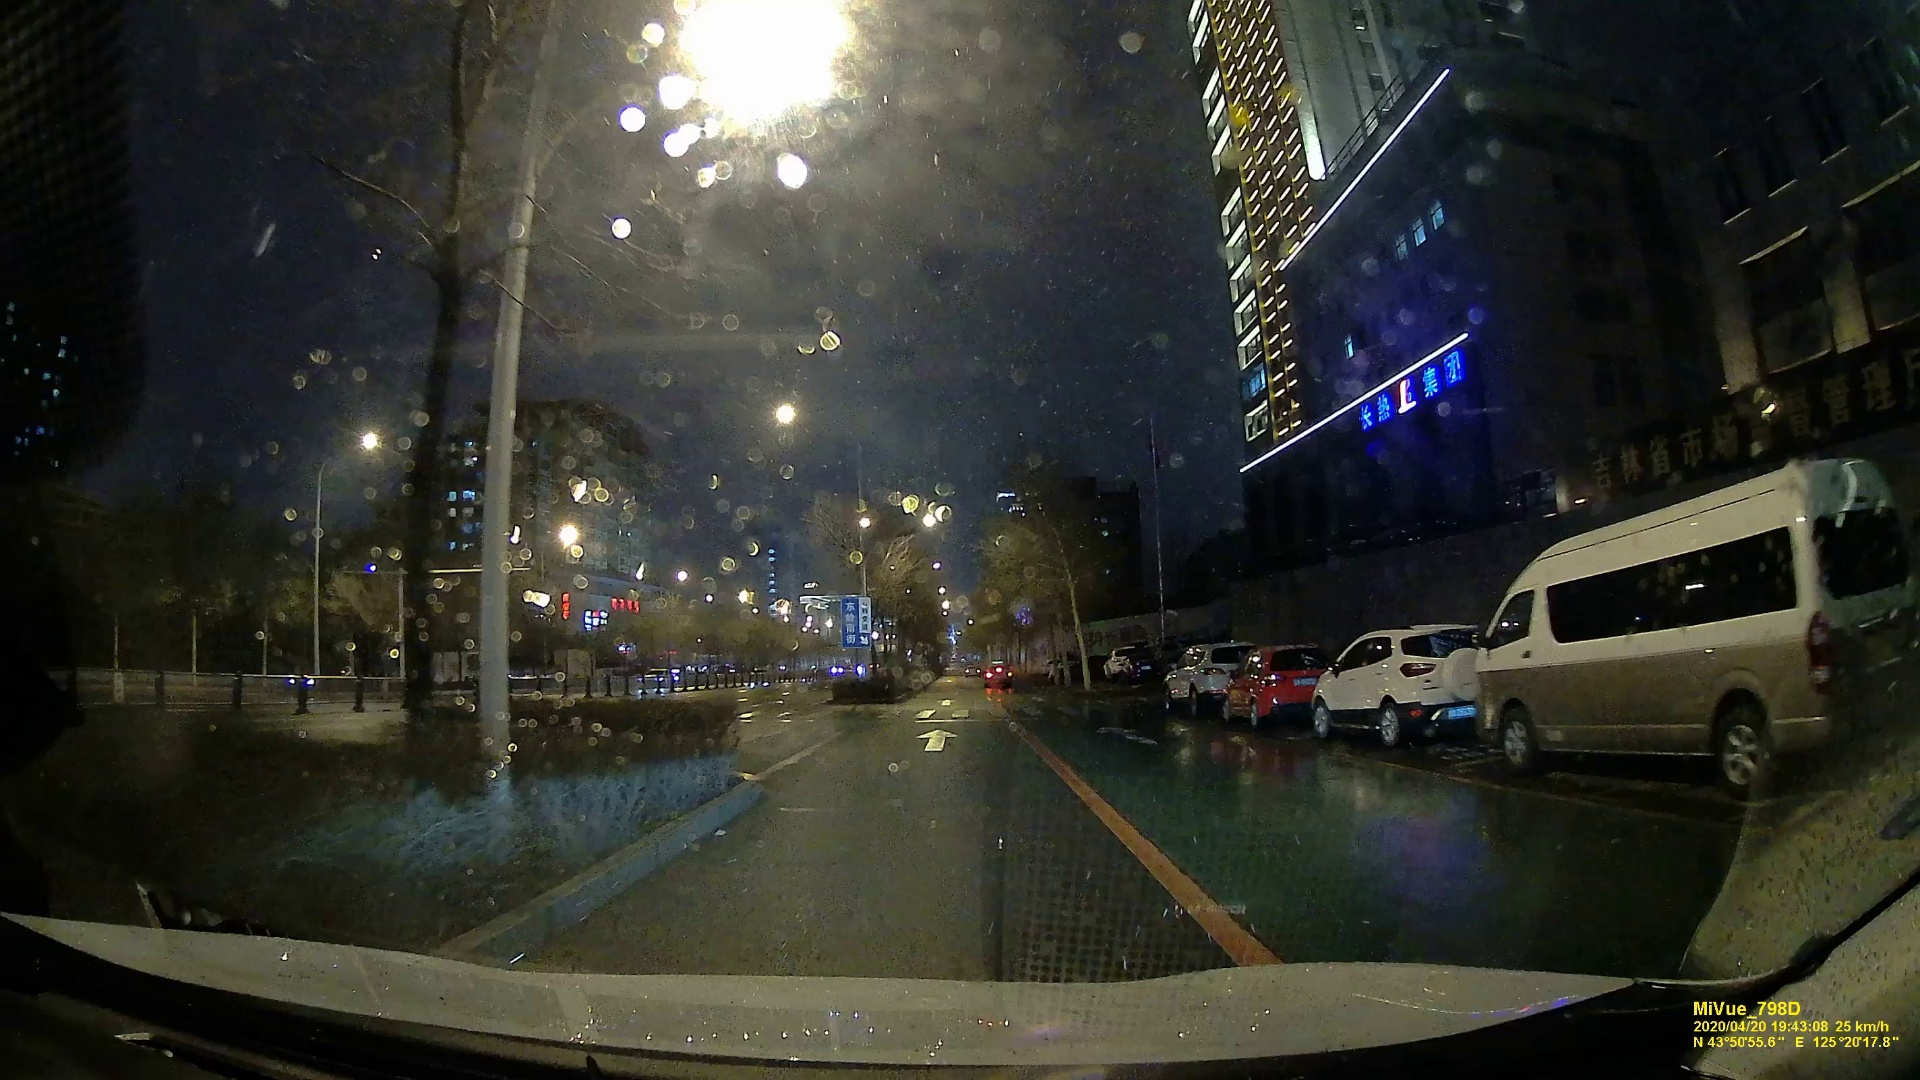minibus: (1493, 467, 1913, 802)
traffic_sign: (840, 596, 870, 646)
vehicle: (1313, 621, 1489, 746), (1225, 644, 1317, 727), (984, 661, 1014, 686)
